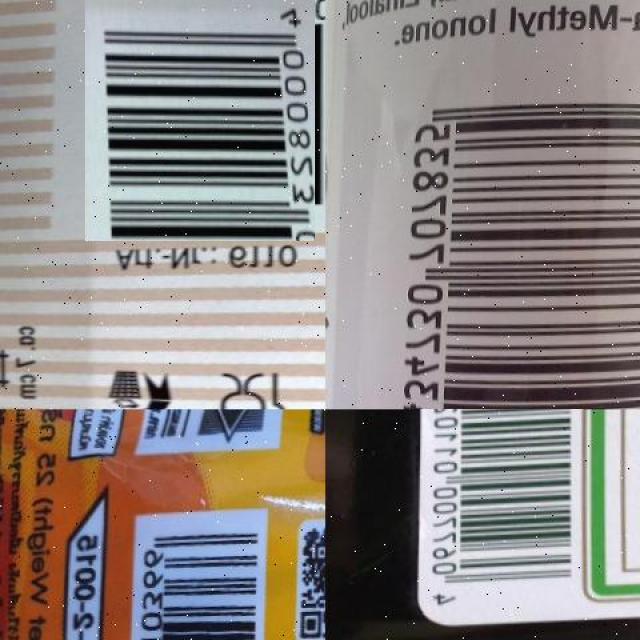Barcode: (366, 69, 640, 409), (78, 0, 320, 236), (413, 410, 584, 614), (132, 513, 267, 640)
